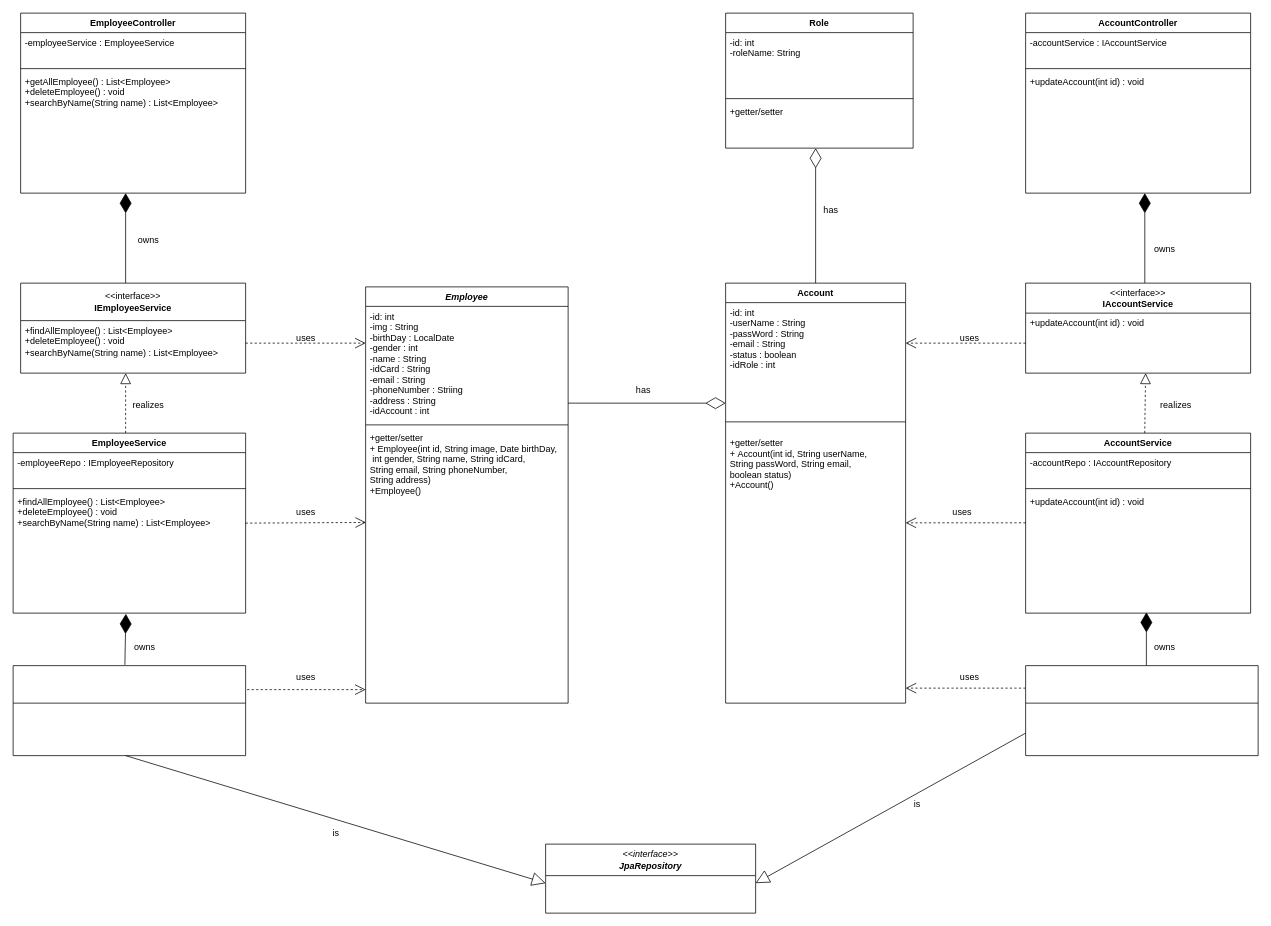
Image size: 1271x926. Some labels were removed from this diagram. Here are the shapes that lost their labels. From the top down, the centre of each, then its label:
At pixel 129 710: "<<interface>> IEmployeeRepository<Employee,Integer>".
At pixel 1141 710: "<<interface>> IAccountRepository<Account,Integer>".
